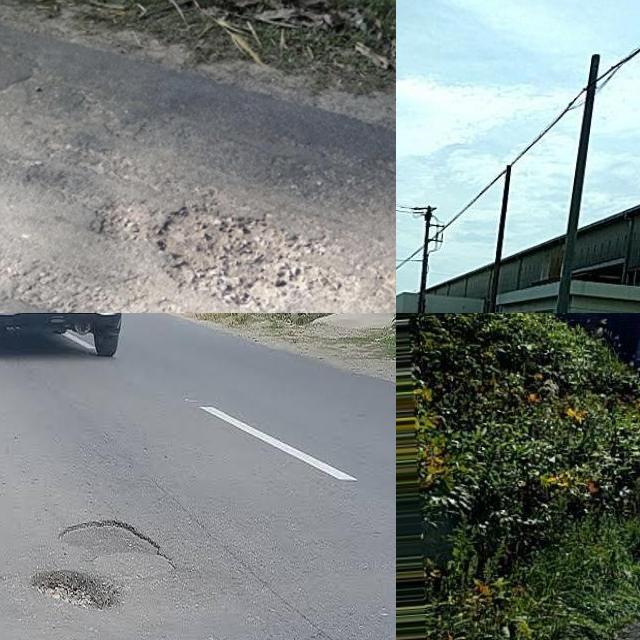Lubang: (152, 206, 319, 295), (35, 562, 121, 612), (61, 522, 158, 563)
